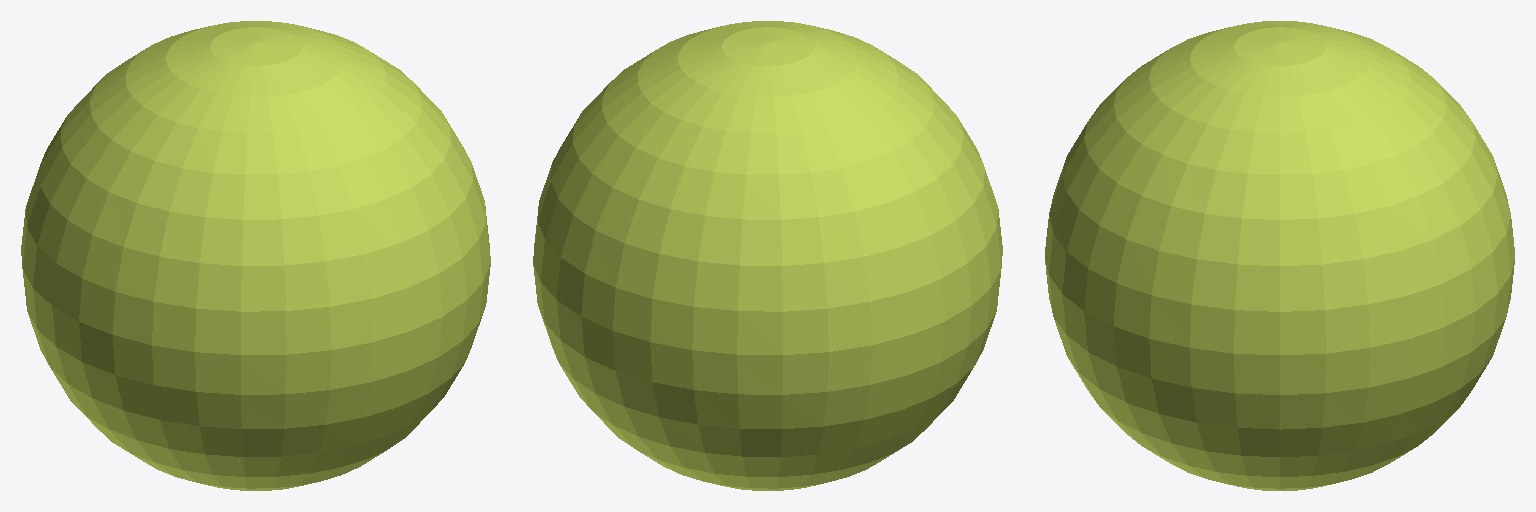
The model's file is GolfBall.obj.
The picture shows the model from 3 angles: view 1: azimuth 30°, elevation 25°; view 2: azimuth 150°, elevation 25°; view 3: azimuth 270°, elevation 25°; orthographic projection.
Visible parts, largest first — view 1: Sphere001; view 2: Sphere001; view 3: Sphere001.
Part boxes in pixels (bbox=[...]): Sphere001: bbox=[21, 21, 490, 490]; Sphere001: bbox=[533, 21, 1002, 490]; Sphere001: bbox=[1045, 21, 1514, 490].
Bounding box in the file's own units: 0.3938 × 0.3938 × 0.3938.